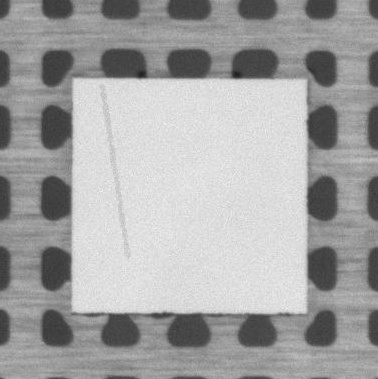DIE_CRACK: (102, 84, 128, 258)
